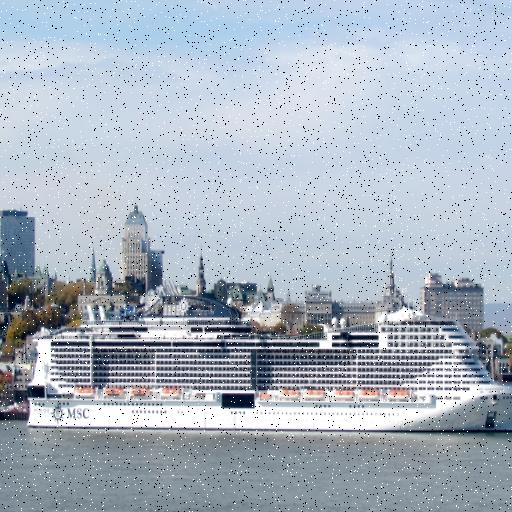cruises: (23, 304, 512, 441)
